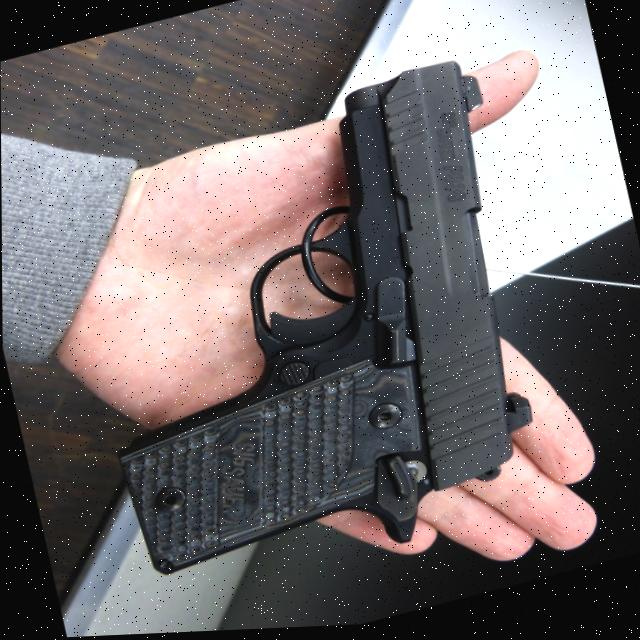pistol: (42, 54, 570, 616)
